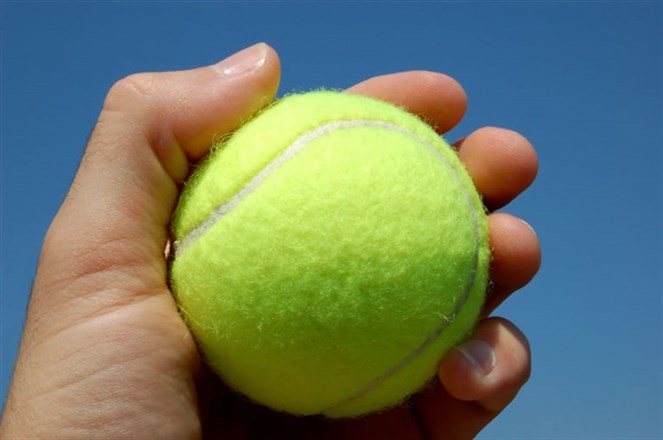aim: (166, 87, 489, 417)
